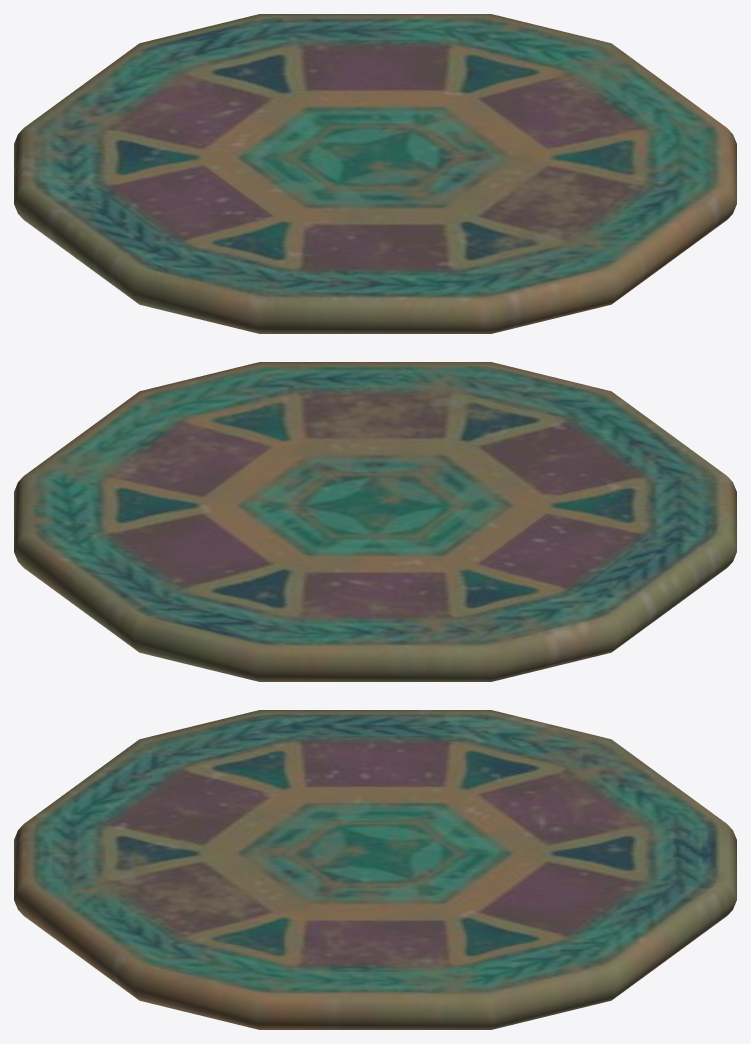
File: comfort_t4_floor_carpet01.glb
The picture shows the model from 3 angles, top to bottom: view 1: azimuth 30°, elevation 25°; view 2: azimuth 150°, elevation 25°; view 3: azimuth 270°, elevation 25°; orthographic projection.
Parts seen in each view (by area): view 1: env_desert_props_carpet_01; view 2: env_desert_props_carpet_01; view 3: env_desert_props_carpet_01.
Part boxes in pixels (x1,y1,x2,y2): env_desert_props_carpet_01: (14,14,736,333); env_desert_props_carpet_01: (14,362,736,681); env_desert_props_carpet_01: (14,710,736,1029).
Bounding box in the file's own units: 1.92 × 0.1 × 1.99.
Materials: 1 (1 with a texture image).
